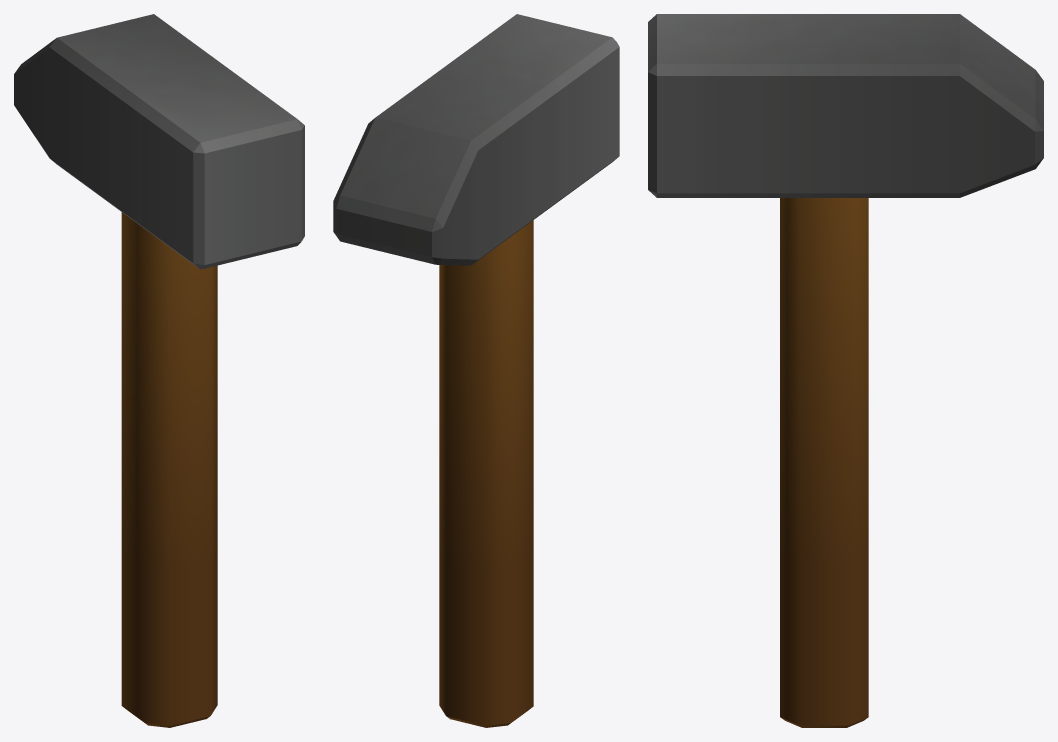
The model's file is Hamer_1.glb.
3 views of the same model, side by side, from view 1: azimuth 30°, elevation 25°; view 2: azimuth 150°, elevation 25°; view 3: azimuth 270°, elevation 25° (orthographic). The views are drawn at different scales.
Visible parts, largest first — view 1: Hamer_1; view 2: Hamer_1; view 3: Hamer_1.
Boxes of the visible parts, x1,y1,x2,y2 form: Hamer_1: (14,14,304,727); Hamer_1: (333,14,619,727); Hamer_1: (648,14,1043,727).
Size of the model in its own units: 0.061 by 0.3326 by 0.1775.
2 materials, 2 textured.
